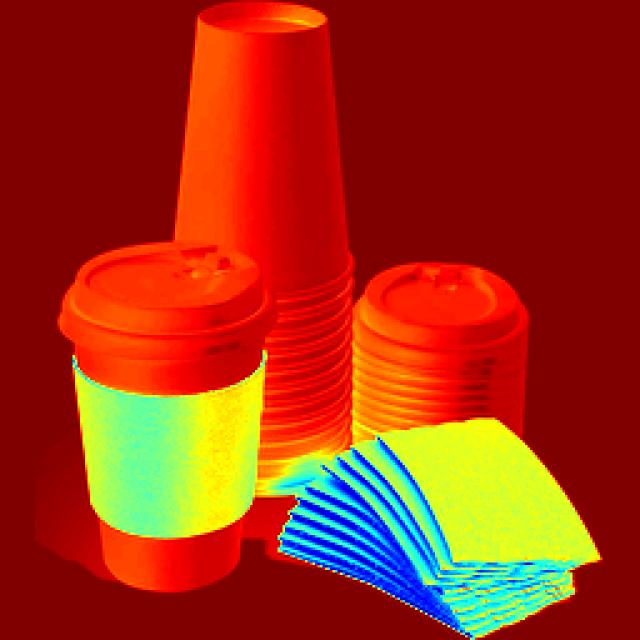Paper Cups: (62, 237, 267, 585), (197, 4, 349, 449), (343, 249, 519, 436)
